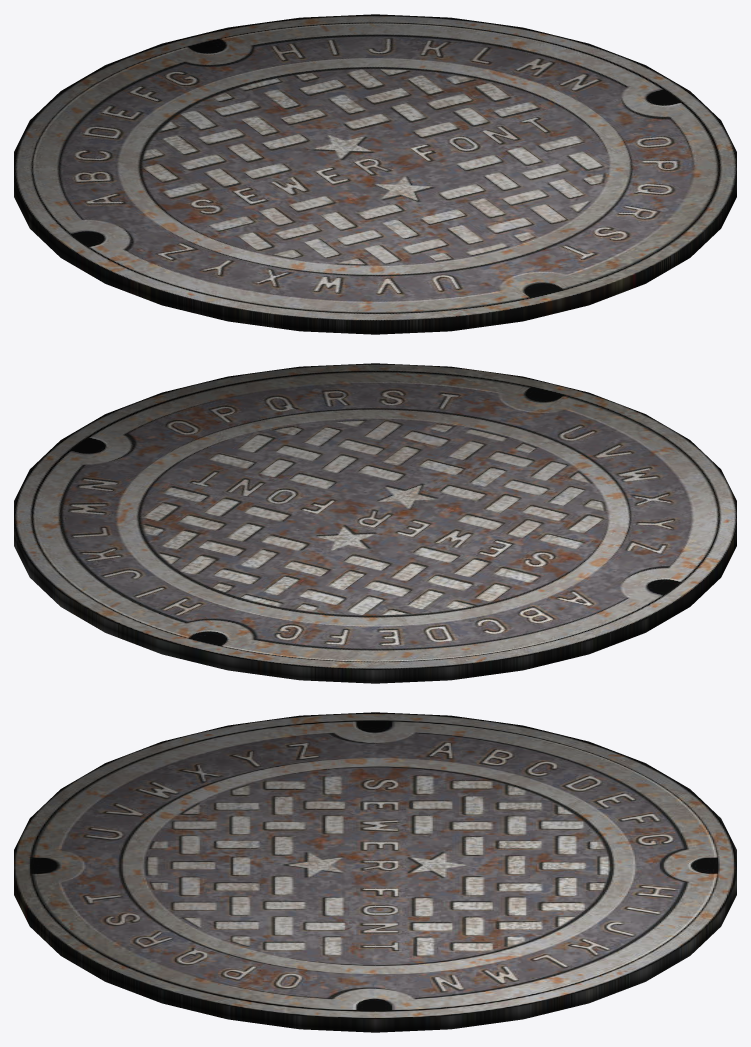
The model's file is Manhole_1.1.fbx.
3 views of the same model, one above another, from view 1: azimuth 30°, elevation 25°; view 2: azimuth 150°, elevation 25°; view 3: azimuth 270°, elevation 25° (orthographic).
Parts seen in each view (by area): view 1: Manhole; view 2: Manhole; view 3: Manhole.
Part boxes in pixels (<box>): Manhole: <box>14,14,736,334</box>; Manhole: <box>14,363,736,683</box>; Manhole: <box>14,712,736,1032</box>.
Bounding box in the file's own units: 200 × 4 × 199.
Materials: 1 (1 with a texture image).
